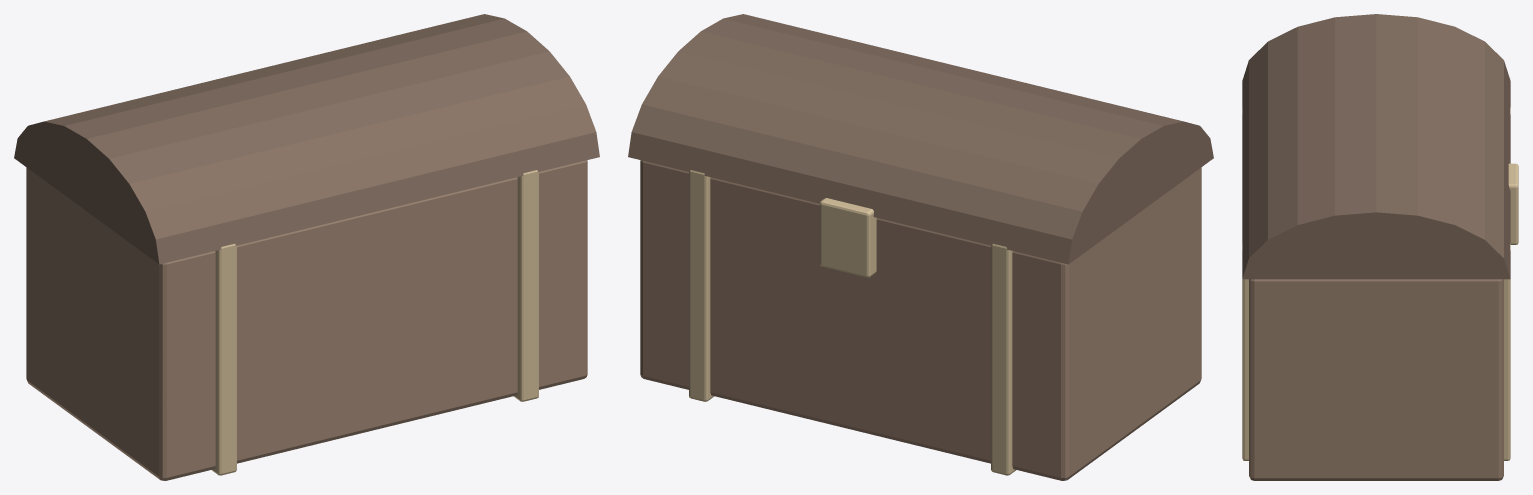
The model's file is Chest.glb.
3 views of the same model, side by side, from view 1: azimuth 30°, elevation 25°; view 2: azimuth 150°, elevation 25°; view 3: azimuth 270°, elevation 25° (orthographic). The views are drawn at different scales.
Visible parts, largest first — view 1: Chest_Wood, Chest_DarkWood, Chest_Brass; view 2: Chest_Wood, Chest_DarkWood, Chest_Brass; view 3: Chest_DarkWood, Chest_Wood, Chest_Brass.
Boxes of the visible parts, left/top/right/bottom form: Chest_Wood: left=26, top=160, right=587, bottom=480; Chest_DarkWood: left=14, top=14, right=599, bottom=264; Chest_Brass: left=212, top=170, right=538, bottom=475; Chest_Wood: left=640, top=160, right=1201, bottom=480; Chest_DarkWood: left=628, top=14, right=1213, bottom=264; Chest_Brass: left=689, top=170, right=1015, bottom=475; Chest_DarkWood: left=1242, top=14, right=1510, bottom=279; Chest_Wood: left=1249, top=279, right=1503, bottom=480; Chest_Brass: left=1242, top=107, right=1518, bottom=460.
Bounding box in the file's own units: 3.5 × 2.27 × 2.06.
